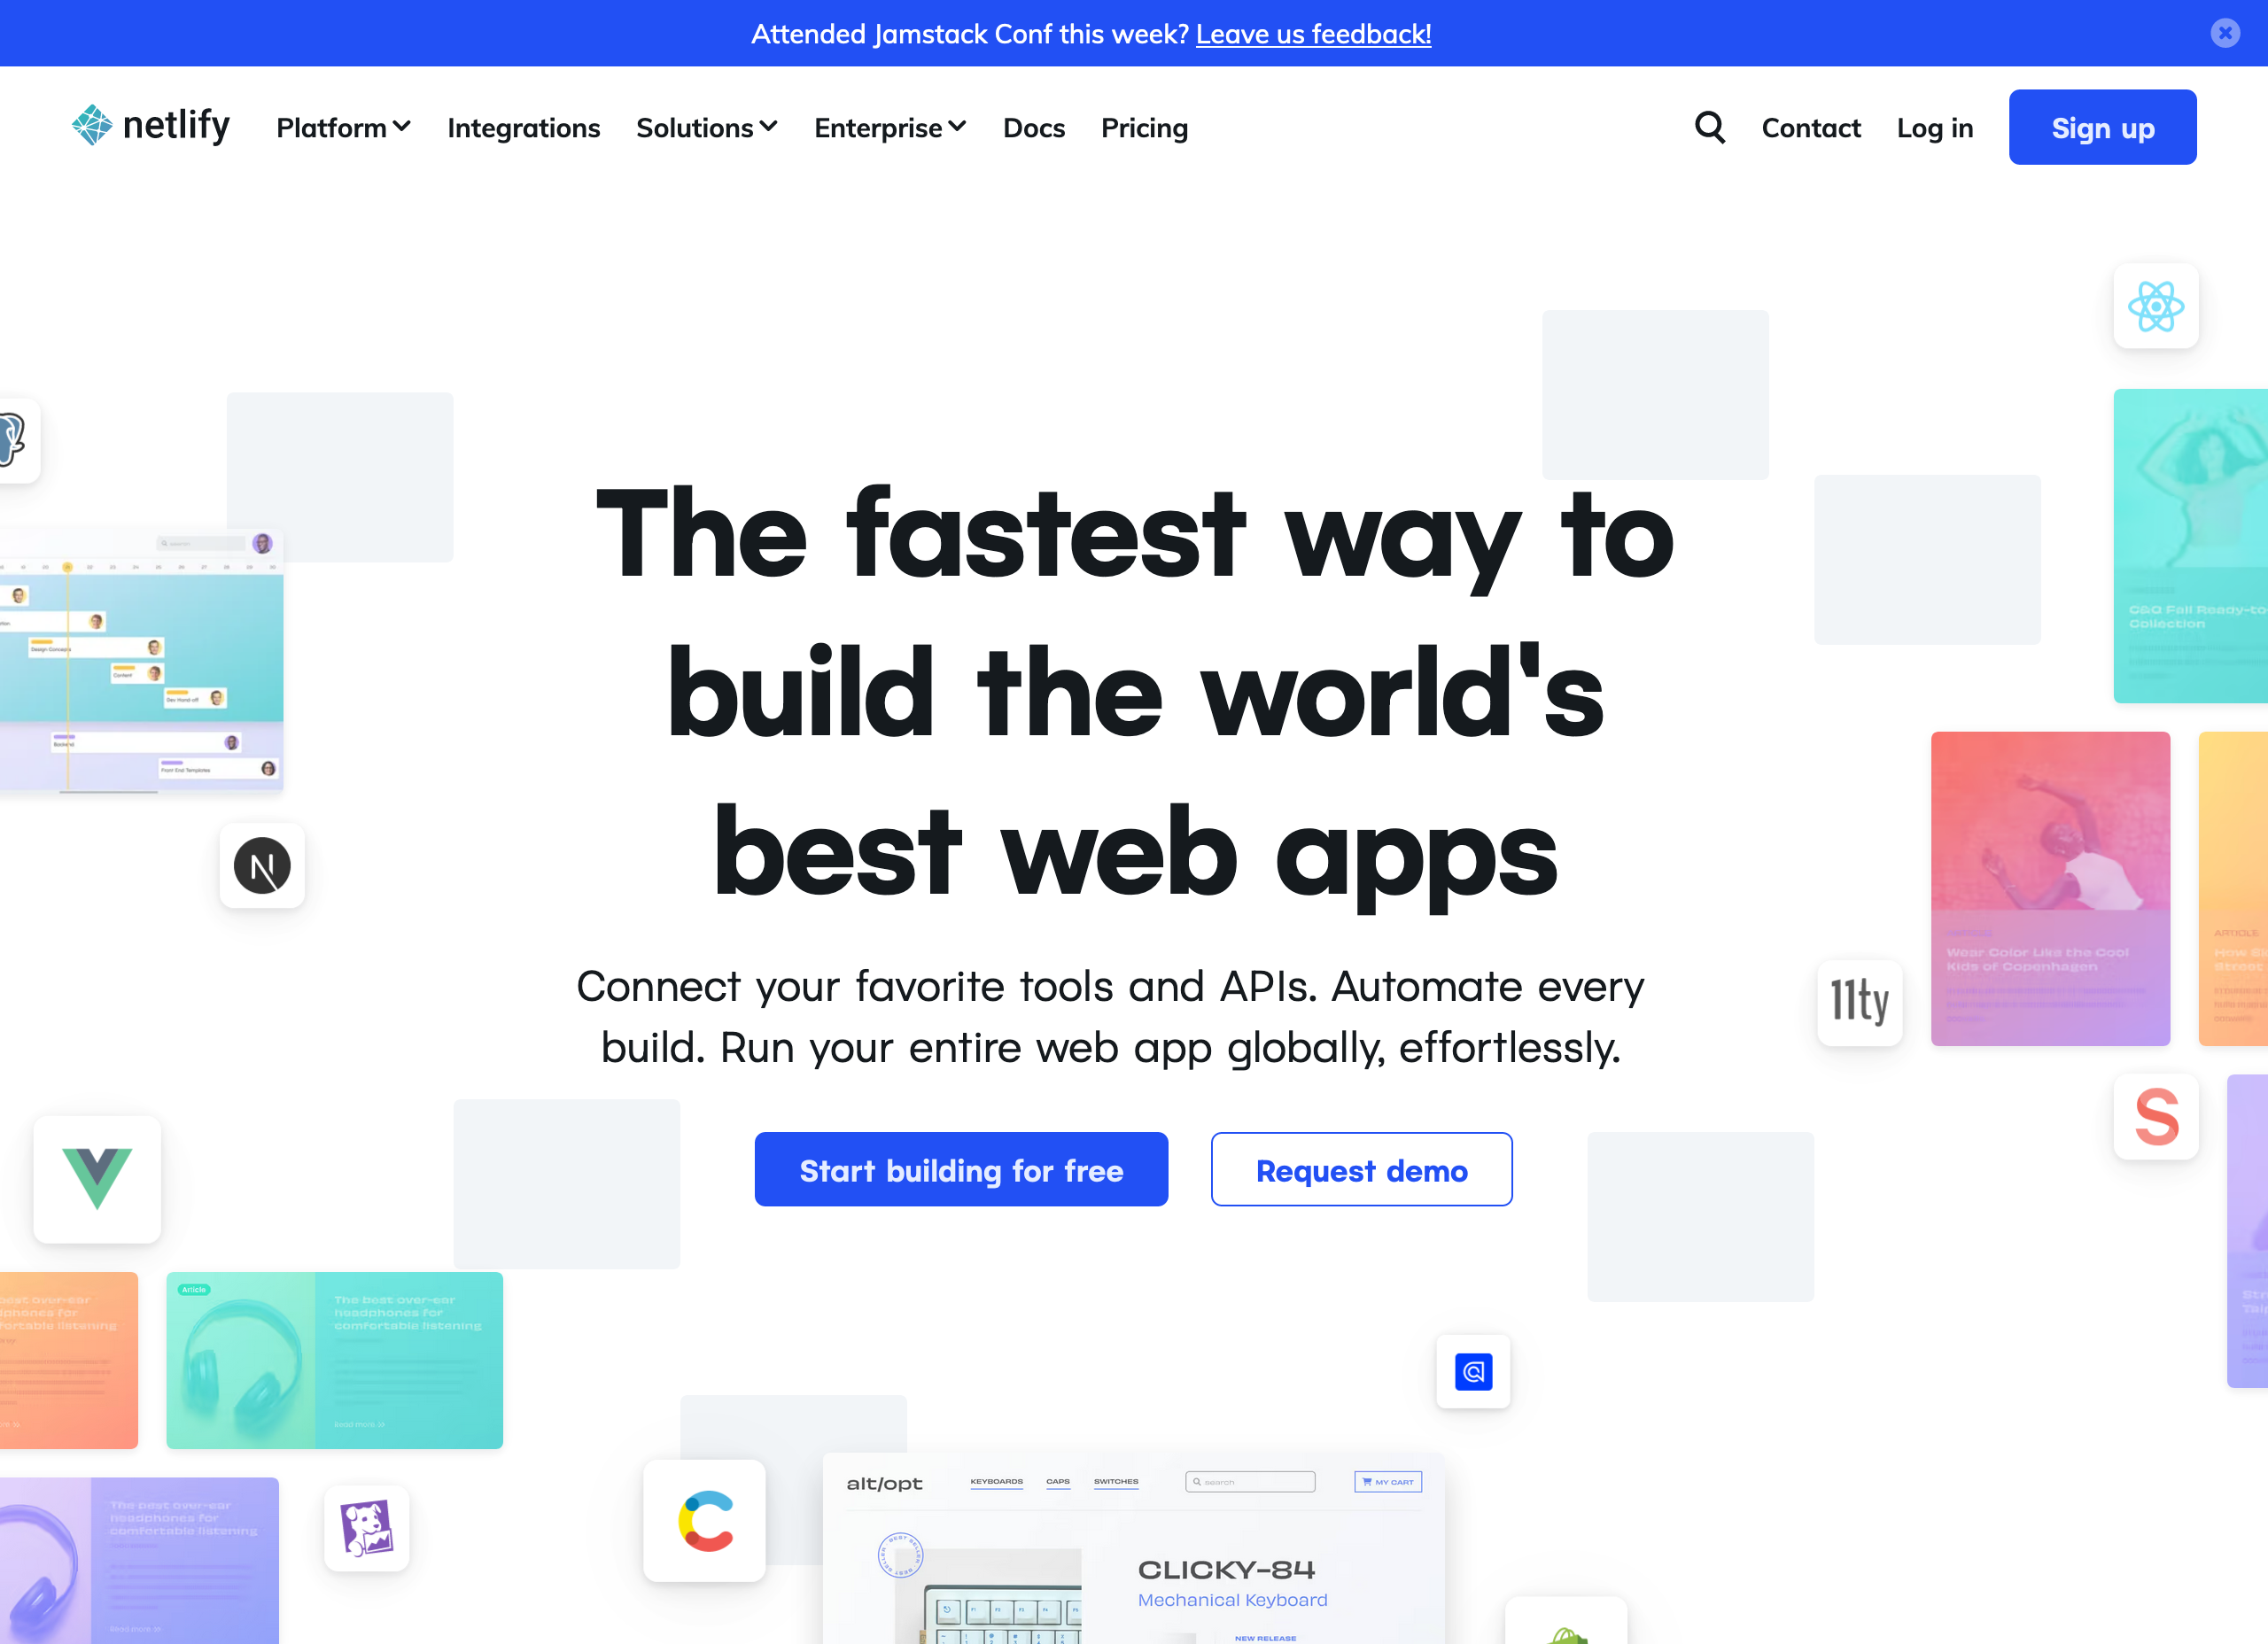Login: (1882, 102, 1988, 150)
